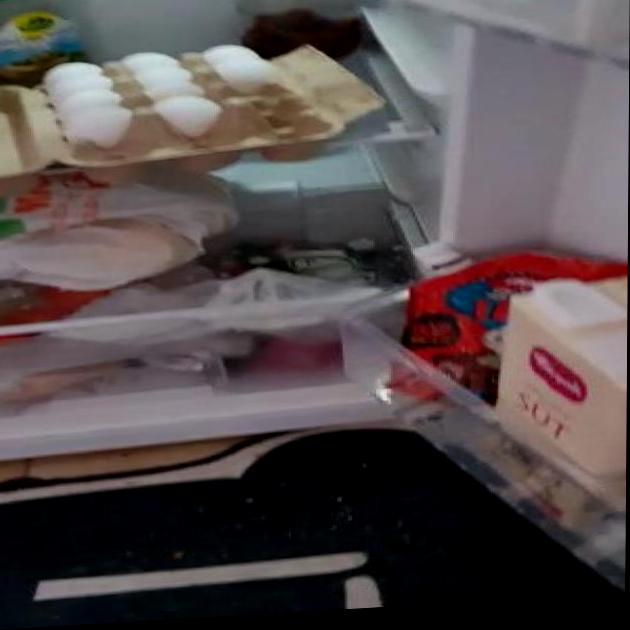eggs: (54, 45, 291, 148)
milk: (516, 277, 628, 491)
